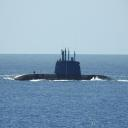submarine: (12, 50, 121, 82)
